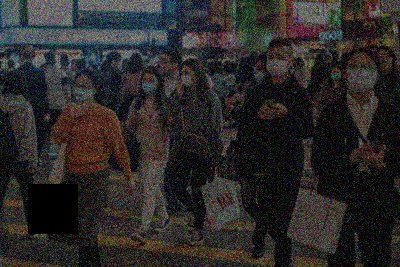with_mask: (347, 58, 374, 94), (267, 50, 289, 76), (72, 80, 93, 104), (140, 75, 157, 95), (179, 69, 194, 88), (252, 63, 266, 82), (330, 69, 342, 80), (112, 58, 122, 70), (17, 58, 25, 66)
without_mask: (376, 52, 393, 72), (159, 56, 174, 76), (234, 91, 245, 101)
